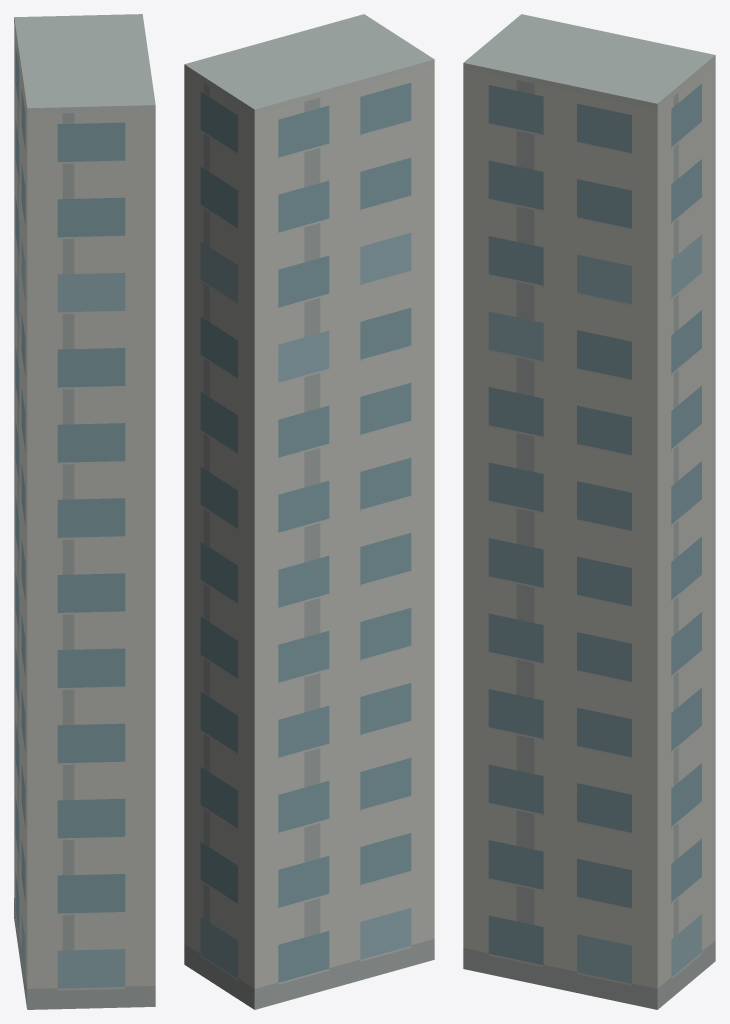
Rendered from survey-upis-32842178.glb.
3 renders of one model, left to right at view 1: azimuth 30°, elevation 25°; view 2: azimuth 150°, elevation 25°; view 3: azimuth 270°, elevation 25°, orthographic.
Visible parts, largest first — view 1: survey-upis-32842178.tmp; view 2: survey-upis-32842178.tmp; view 3: survey-upis-32842178.tmp.
Part boxes in pixels (box(x1,y1,x2,y2)): survey-upis-32842178.tmp: box(14, 14, 155, 1009); survey-upis-32842178.tmp: box(184, 14, 434, 1009); survey-upis-32842178.tmp: box(463, 14, 715, 1009).
Size of the model in its own units: 7.79 by 36.6 by 9.25.
